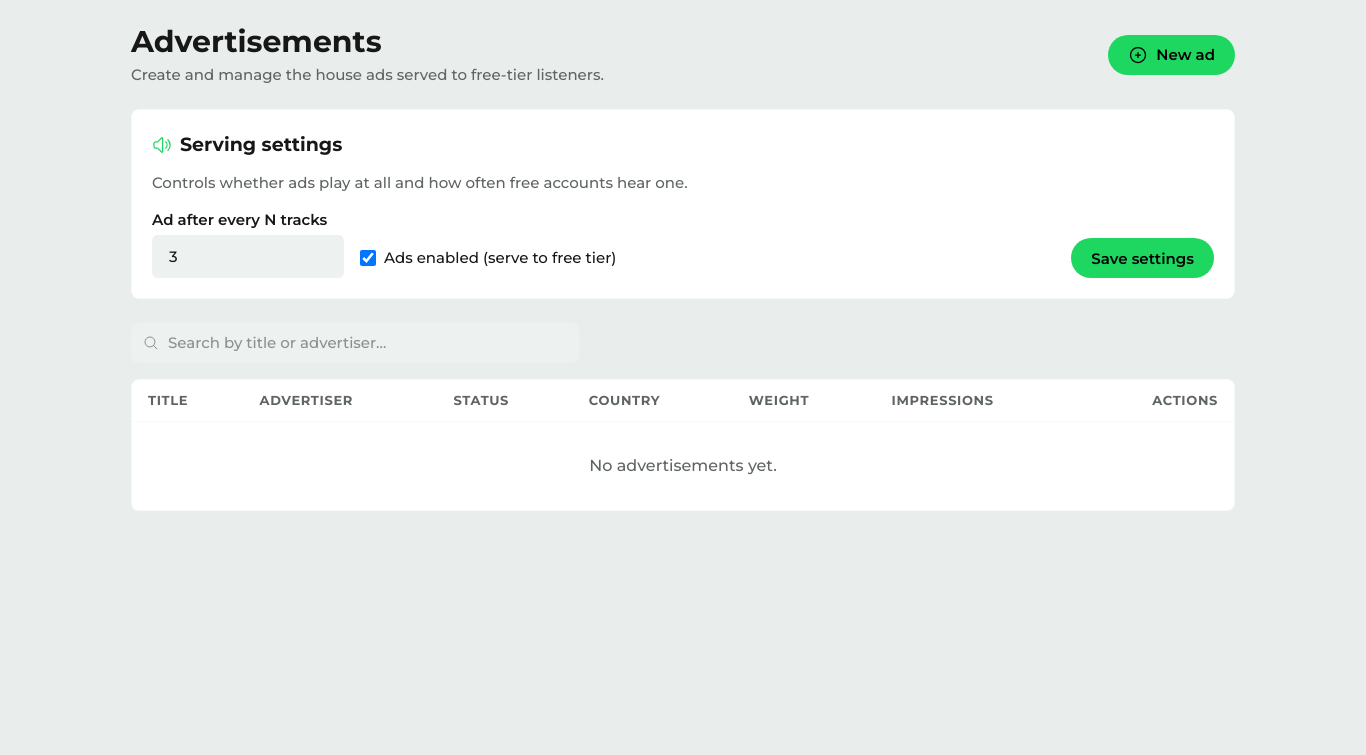
AdminAdsPage › submits the form and renders the created ad in the list
Expected: the text "No advertisements yet." is shown, [132,422,1234,510]
Click the button "New ad": coordinates (1172, 55) [1108,35,1235,75]
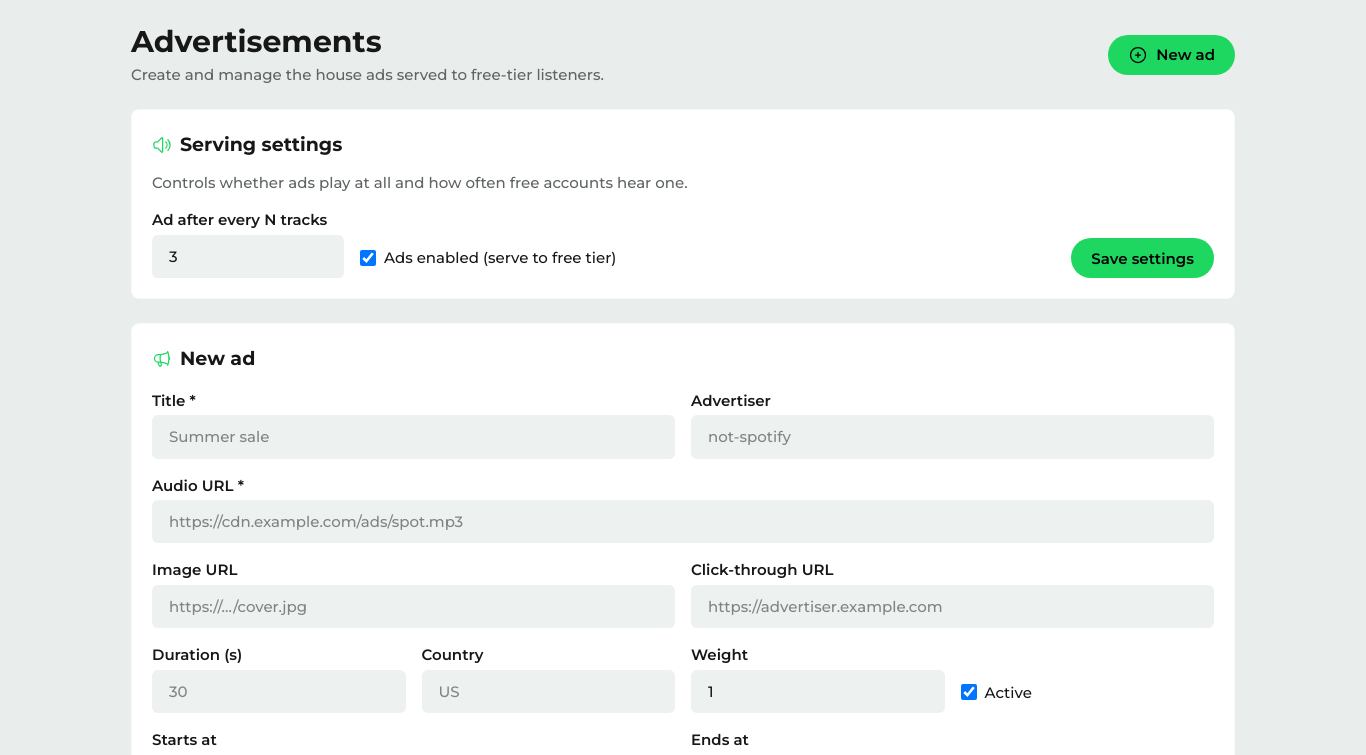
In the field labelled "Title *": coordinates (414, 437) [152,415,675,459], type "Fresh ad"
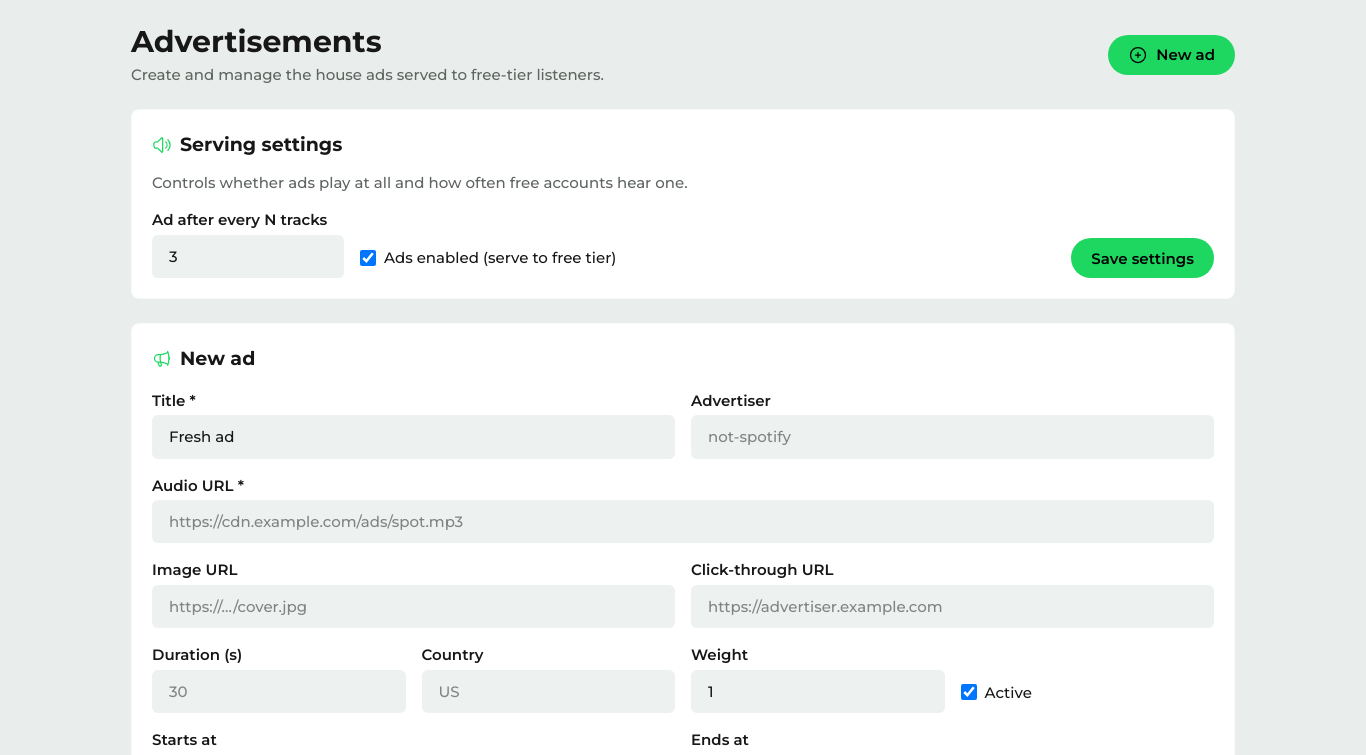
In the field labelled "Audio URL *": coordinates (683, 522) [152,500,1214,543], type "https://cdn/fresh.mp3"
(page scrolled)
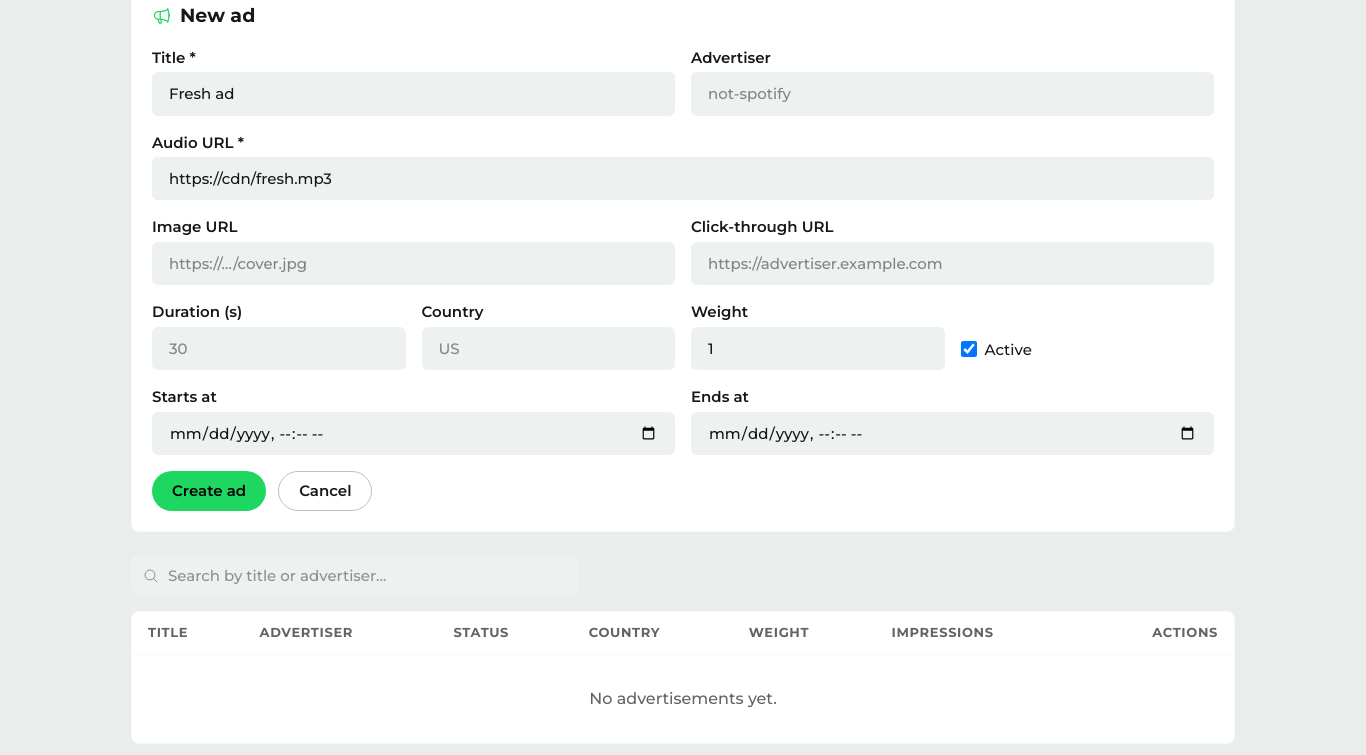
Click the button "Create ad": coordinates (209, 491) [152,471,266,511]
(page scrolled)
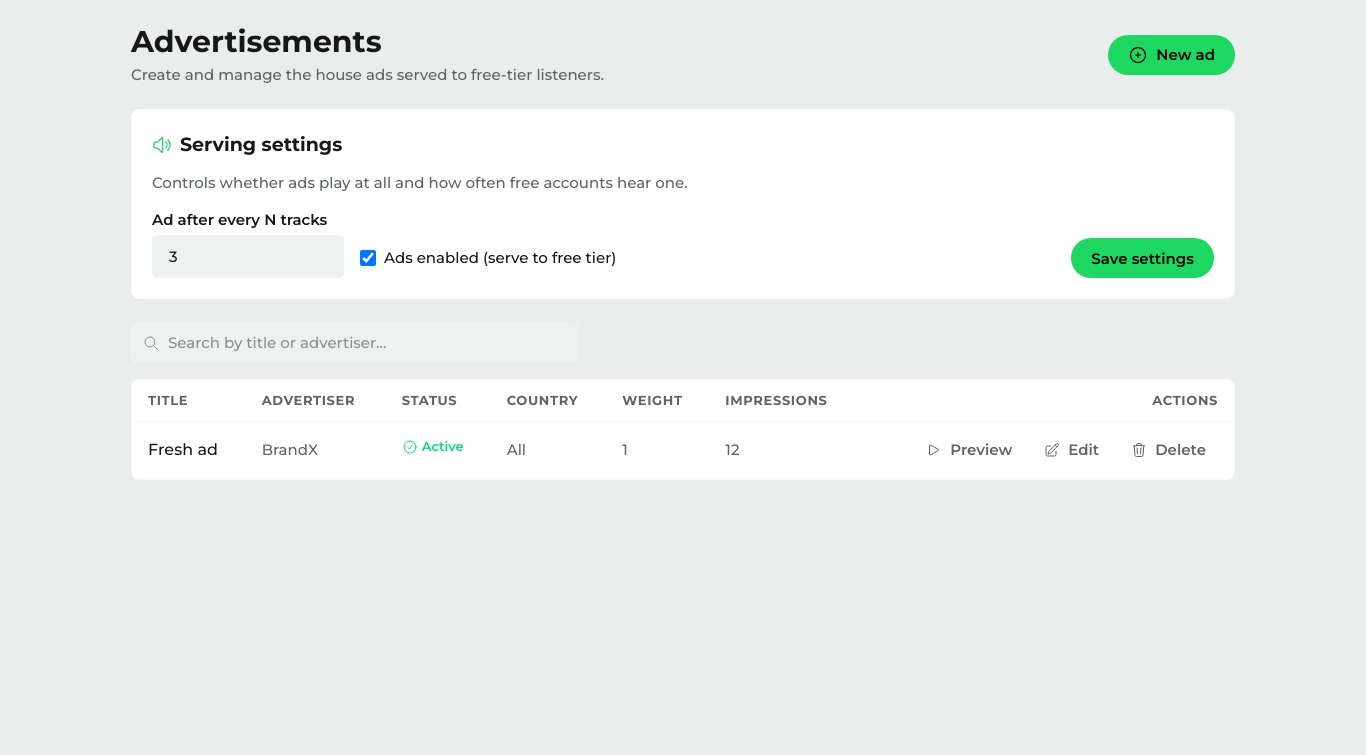
Now the text "Fresh ad" is shown, box [148,440,218,459]
